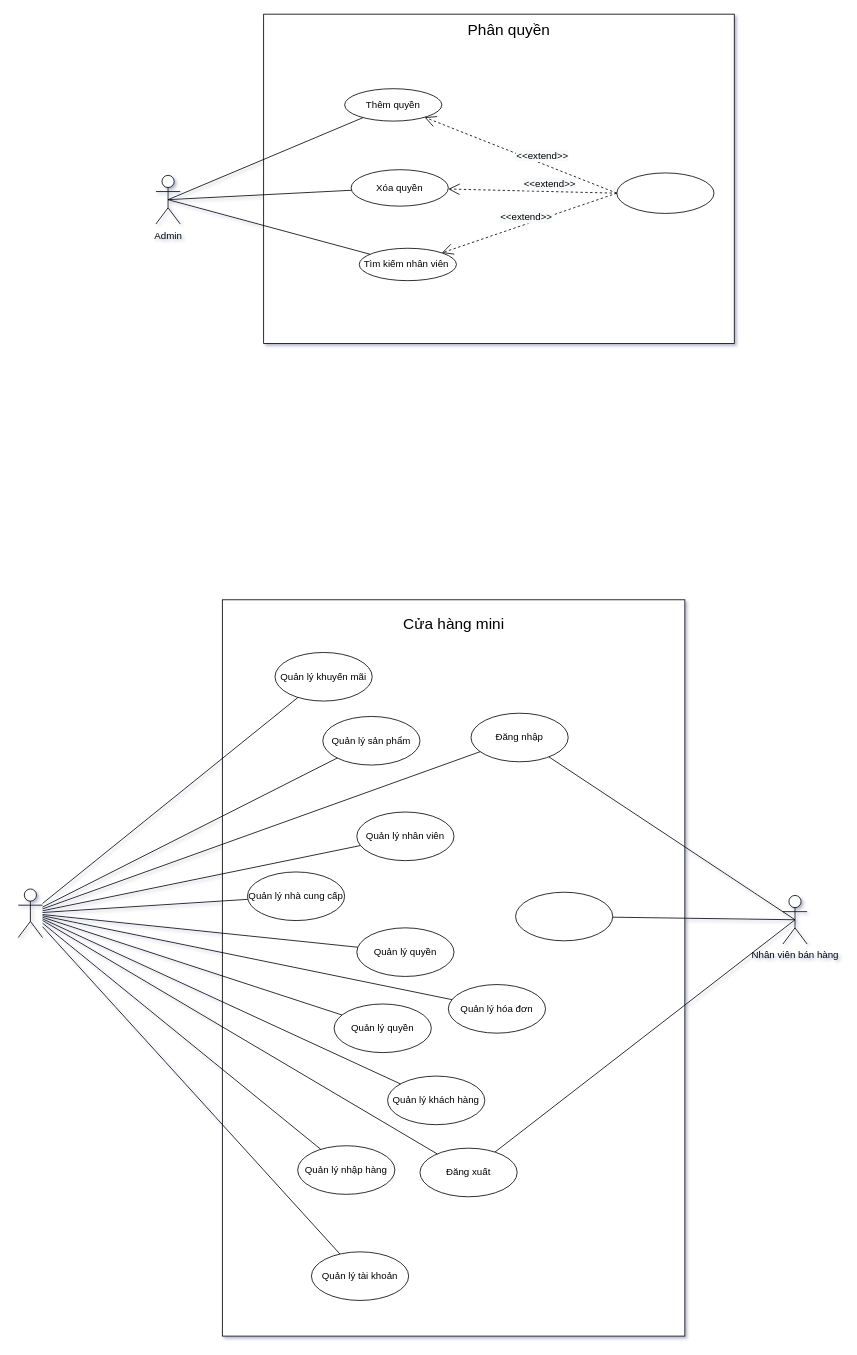
The diagram is 857 pixels wide and 1355 high, and some of its shapes have lost their labels. Each missing label, with the box of its shape:
Bán hàng: (515, 891, 613, 941)
Hiện thông tin quyền của nhân viên: (616, 172, 714, 213)
Quản lý: (17, 888, 43, 938)
